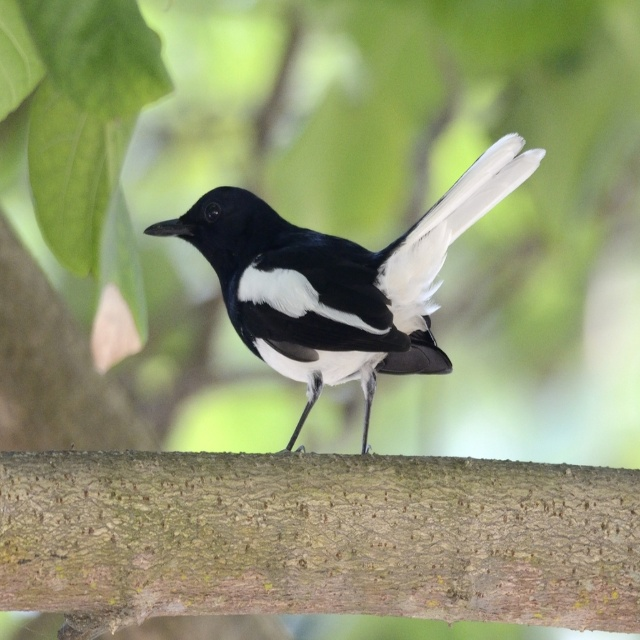Magpie: (143, 132, 547, 453)
